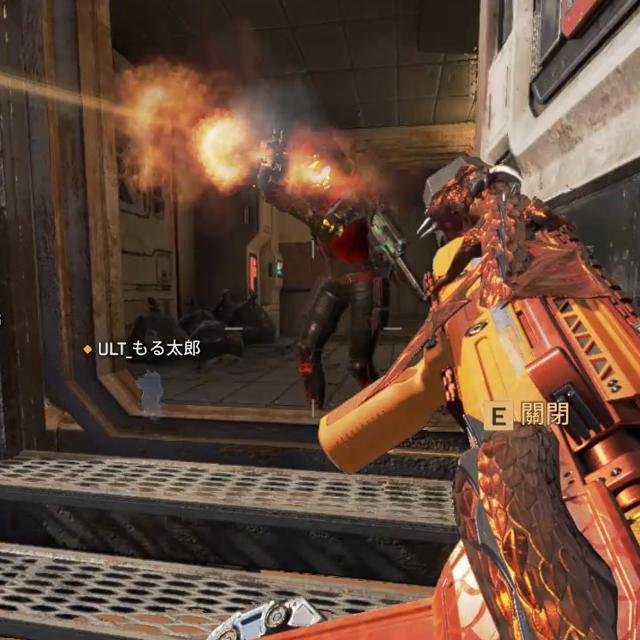avatar: (292, 132, 392, 419)
object: (123, 61, 255, 192)
